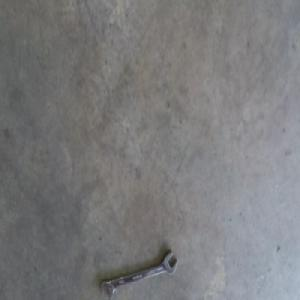Wrench: (101, 252, 177, 299)
